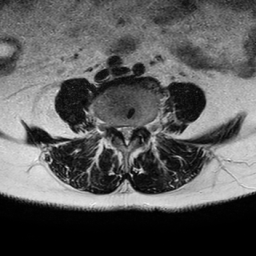CCS_normal: (122, 120, 129, 150)
LFS_severe_stenosis: (136, 119, 143, 138)
LLS_stenosis: (129, 120, 136, 141)
RFS_severe_stenosis: (107, 117, 116, 138)
RLS_stenosis: (116, 120, 122, 140)
